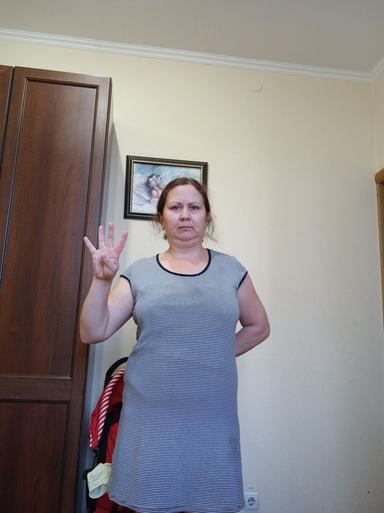four: (82, 221, 129, 283)
